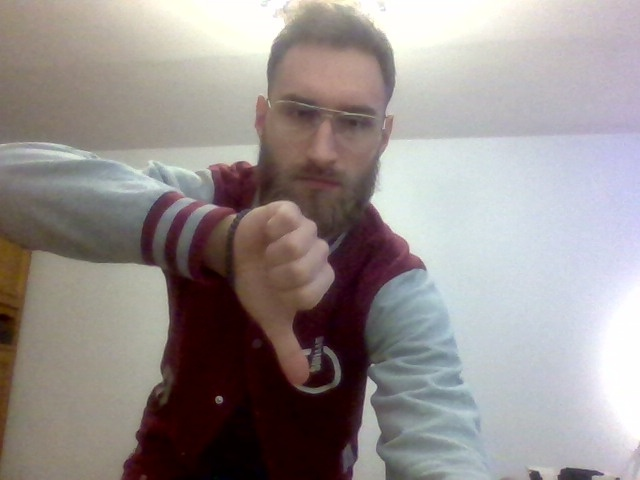ThumbsDown: (243, 199, 335, 386)
